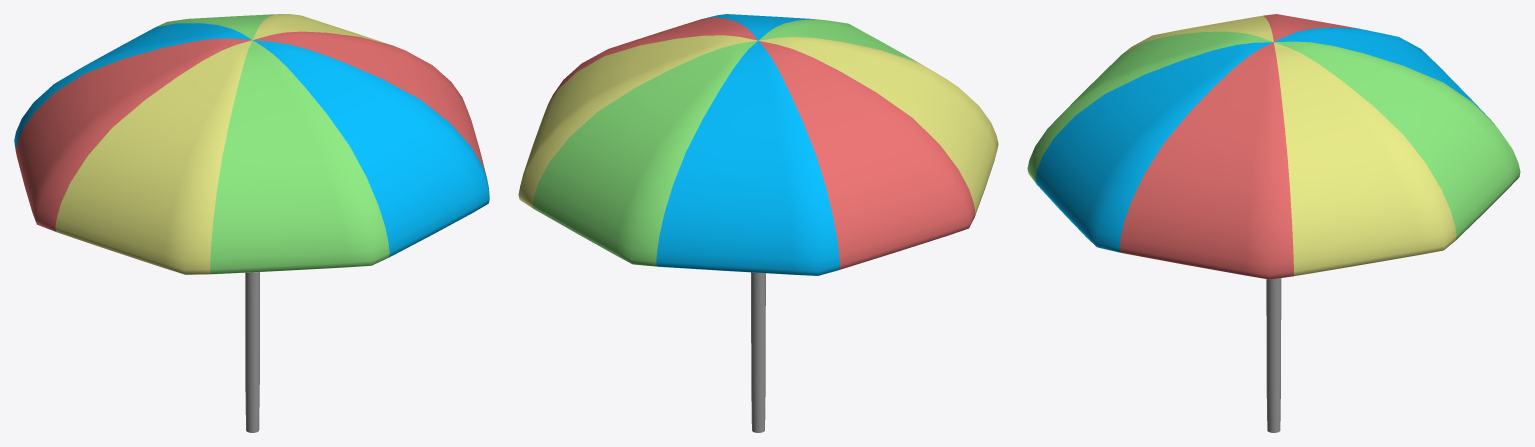
The model's file is umbrella.fbx.
The picture shows the model from 3 angles, left to right: view 1: azimuth 30°, elevation 25°; view 2: azimuth 150°, elevation 25°; view 3: azimuth 270°, elevation 25°; orthographic projection.
Parts seen in each view (by area): view 1: umbrella; view 2: umbrella; view 3: umbrella.
Boxes of the visible parts, x1,y1,x2,y2 form: umbrella: (14, 14, 489, 432); umbrella: (518, 14, 998, 432); umbrella: (1027, 14, 1520, 432).
Size of the model in its own units: 61.98 by 53.87 by 62.04.
